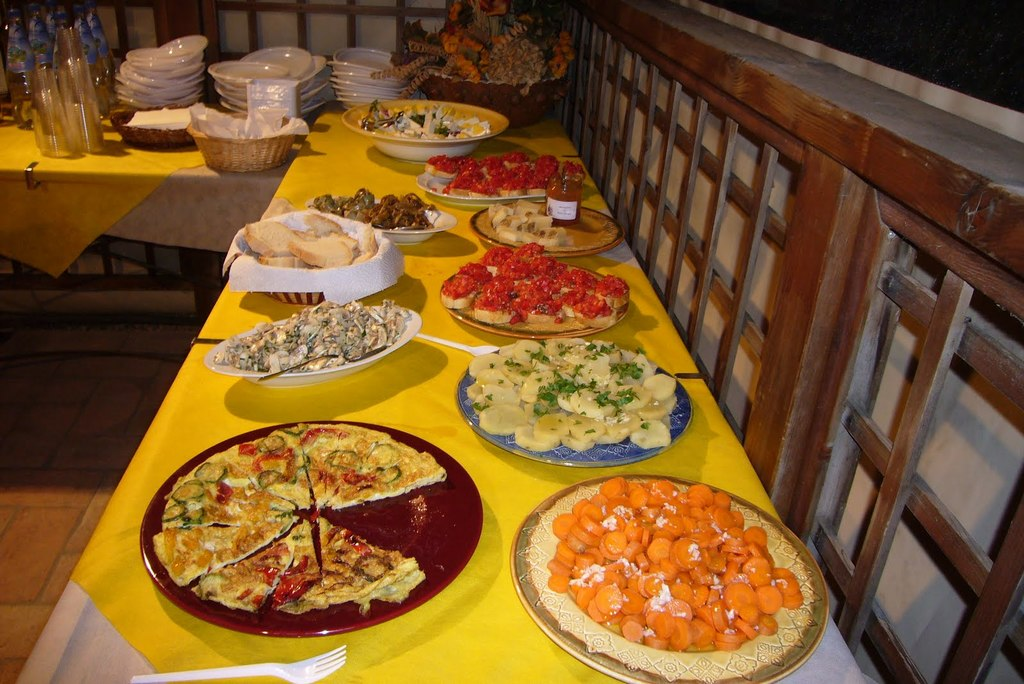Pizza: (154, 422, 443, 618)
